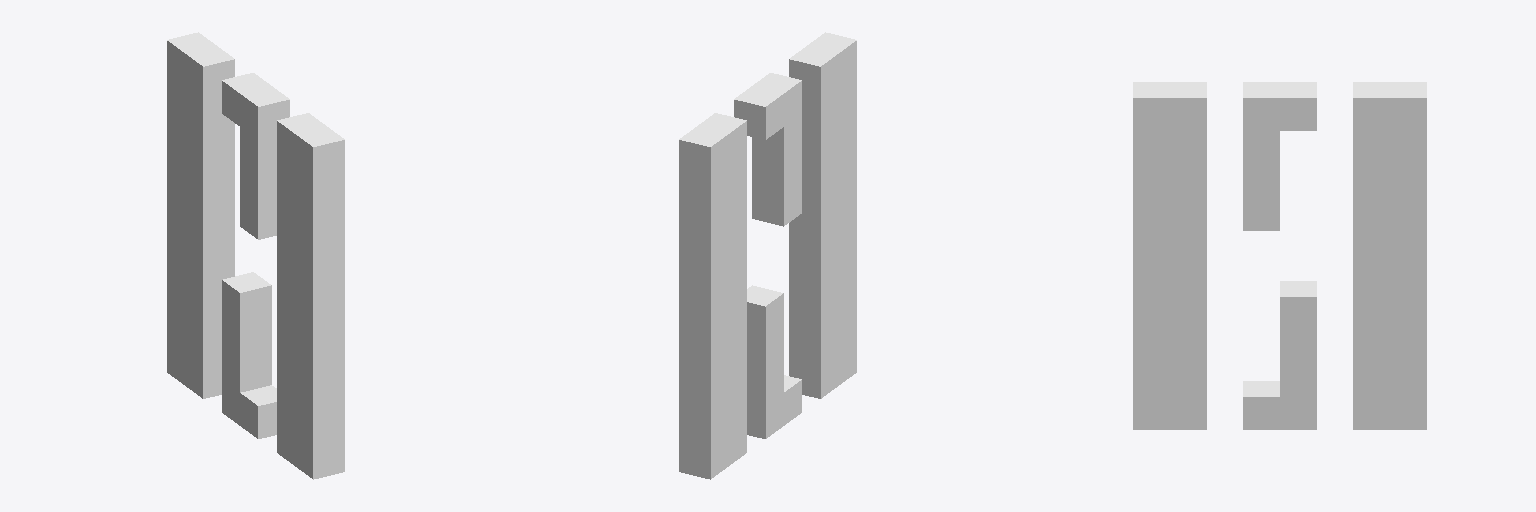
Rendered from SH_Enviorment-4-Floor_BoardsB.obj.
3 renders of one model, left to right at view 1: azimuth 30°, elevation 25°; view 2: azimuth 150°, elevation 25°; view 3: azimuth 270°, elevation 25°, orthographic.
Parts seen in each view (by area): view 1: Floor_BoardsB; view 2: Floor_BoardsB; view 3: Floor_BoardsB.
Boxes of the visible parts, <box> form: Floor_BoardsB: <box>167,32,344,479</box>; Floor_BoardsB: <box>679,32,856,479</box>; Floor_BoardsB: <box>1133,82,1426,429</box>.
Size of the model in its own units: 0.1 by 1 by 0.8.